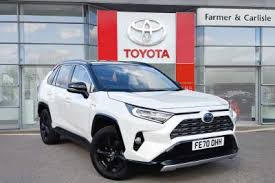Toyota: (42, 61, 238, 164)
